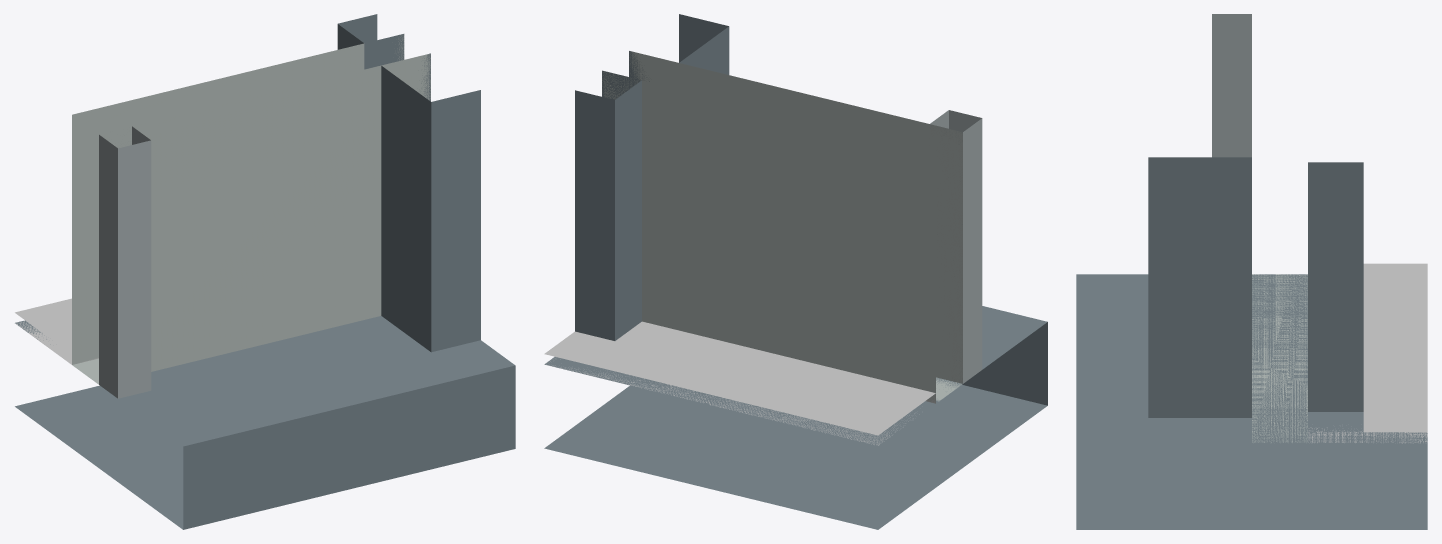
Rendered from cell_44.obj.
3 renders of one model, left to right at view 1: azimuth 30°, elevation 25°; view 2: azimuth 150°, elevation 25°; view 3: azimuth 270°, elevation 25°, orthographic. The views are drawn at different scales.
Size of the model in its own units: 1 by 0.96 by 0.88.
